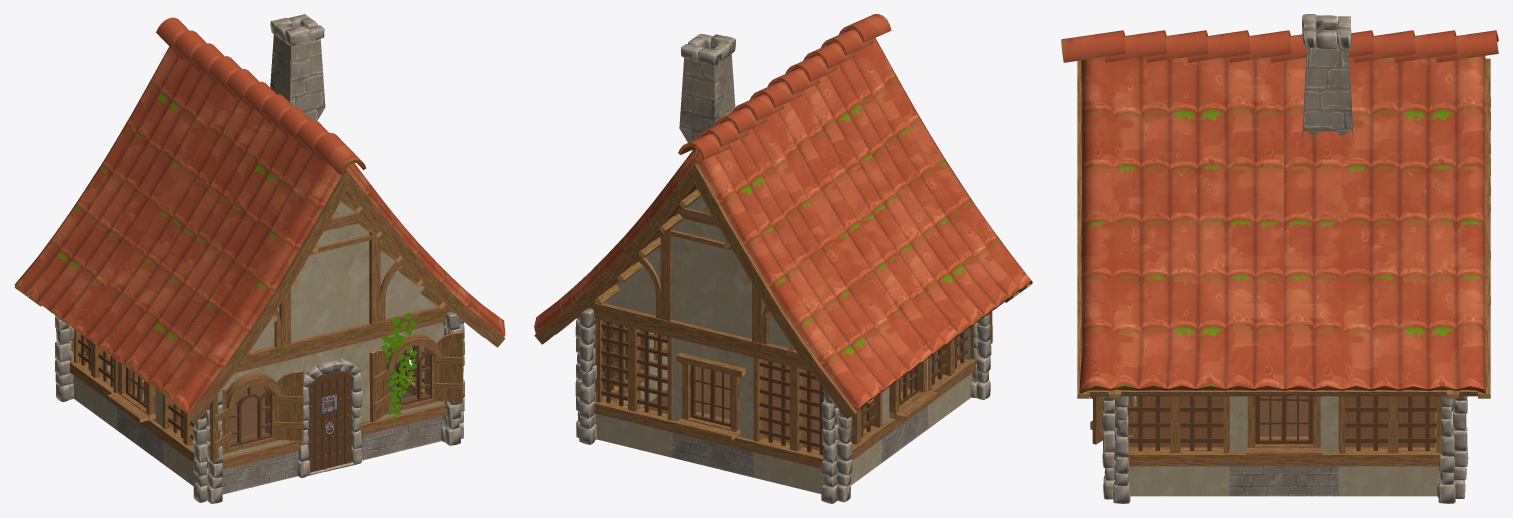
File: house_cottage.gltf
3 renders of one model, left to right at view 1: azimuth 30°, elevation 25°; view 2: azimuth 150°, elevation 25°; view 3: azimuth 270°, elevation 25°, orthographic. The views are drawn at different scales.
Visible parts, largest first — view 1: Roof_RoundTiles_6x6, Roof_Front_Brick6, Prop_Chimney, Door_2_Round, Wall_Plaster_Window_Wide_Round.001, Wall_Plaster_Window_Wide_Round, WindowShutters_Wide_Round_Open.001, WindowShutters_Wide_Round_Open, Wall_Plaster_WoodGrid.002, Wall_Plaster_Door_Round, DoorFrame_Round_Brick, Window_Wide_Round1 (+10 smaller); view 2: Roof_RoundTiles_6x6, Roof_Front_Brick6.001, Wall_Plaster_WoodGrid, Wall_Plaster_WoodGrid.001, Wall_Plaster_Window_Wide_Flat, Prop_Chimney, Window_Wide_Flat1, Wall_Plaster_WoodGrid.003, Corner_Exterior_Brick.003, Corner_Exterior_Brick.002, Wall_Plaster_WoodGrid.002, Window_Wide_Flat1.001 (+5 smaller); view 3: Roof_RoundTiles_6x6, Wall_Plaster_WoodGrid.004, Wall_Plaster_WoodGrid.005, Wall_Plaster_Window_Wide_Flat.002, Prop_Chimney, Window_Wide_Flat1.002, Corner_Exterior_Brick.002, Corner_Exterior_Brick.001, Floor_WoodDark.001, Floor_WoodDark.007, Floor_WoodDark.004, WindowShutters_Wide_Round_Open.001 (+1 smaller).
Part boxes in pixels (<box>): Roof_RoundTiles_6x6: <box>14,17,505,420</box>; Roof_Front_Brick6: <box>237,194,451,368</box>; Prop_Chimney: <box>270,14,325,120</box>; Door_2_Round: <box>307,371,351,472</box>; Wall_Plaster_Window_Wide_Round.001: <box>369,318,445,458</box>; Wall_Plaster_Window_Wide_Round: <box>221,356,291,494</box>; WindowShutters_Wide_Round_Open.001: <box>369,331,463,422</box>; WindowShutters_Wide_Round_Open: <box>210,370,303,461</box>; Wall_Plaster_WoodGrid.002: <box>70,334,116,429</box>; Wall_Plaster_Door_Round: <box>289,336,370,478</box>; DoorFrame_Round_Brick: <box>297,359,362,478</box>; Window_Wide_Round1: <box>225,372,282,453</box>; Roof_RoundTiles_6x6: <box>534,14,1032,418</box>; Roof_Front_Brick6.001: <box>589,189,806,366</box>; Wall_Plaster_WoodGrid: <box>594,315,672,457</box>; Wall_Plaster_WoodGrid.001: <box>751,353,824,493</box>; Wall_Plaster_Window_Wide_Flat: <box>670,333,753,477</box>; Prop_Chimney: <box>679,34,735,150</box>; Window_Wide_Flat1: <box>675,352,745,440</box>; Wall_Plaster_WoodGrid.003: <box>928,325,976,428</box>; Corner_Exterior_Brick.003: <box>821,390,852,503</box>; Corner_Exterior_Brick.002: <box>575,308,596,444</box>; Wall_Plaster_WoodGrid.002: <box>850,392,885,485</box>; Window_Wide_Flat1.001: <box>889,359,938,421</box>; Roof_RoundTiles_6x6: <box>1061,30,1498,398</box>; Wall_Plaster_WoodGrid.004: <box>1127,396,1229,496</box>; Wall_Plaster_WoodGrid.005: <box>1338,396,1441,496</box>; Wall_Plaster_Window_Wide_Flat.002: <box>1229,396,1338,496</box>; Prop_Chimney: <box>1301,14,1353,152</box>; Window_Wide_Flat1.002: <box>1246,396,1322,458</box>; Corner_Exterior_Brick.002: <box>1437,396,1468,503</box>; Corner_Exterior_Brick.001: <box>1101,396,1130,503</box>; Floor_WoodDark.001: <box>1128,402,1223,447</box>; Floor_WoodDark.007: <box>1345,402,1436,447</box>; Floor_WoodDark.004: <box>1260,402,1308,436</box>; WindowShutters_Wide_Round_Open.001: <box>1090,396,1103,444</box>.
Size of what is drawn, in the model's own units: 8.25 by 8.83 by 8.03.
Materials: 9 (8 with a texture image).
